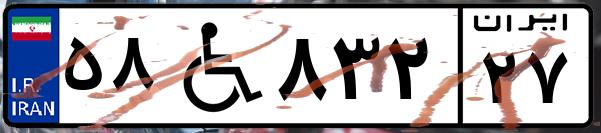2: (385, 28, 445, 110), (475, 38, 525, 113)
3: (330, 28, 385, 110)
5: (57, 26, 110, 100)
7: (525, 38, 570, 115)
8: (270, 28, 330, 110), (110, 28, 158, 98)
ژ (معلولین و جانبازان): (158, 12, 270, 120)
